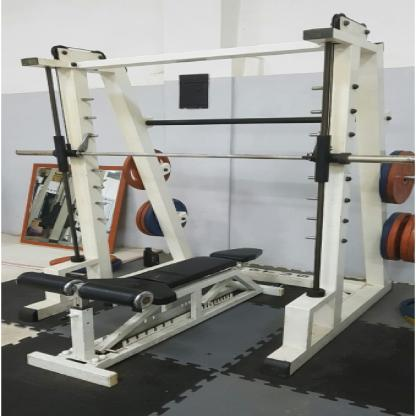smith machine: (21, 13, 391, 378)
